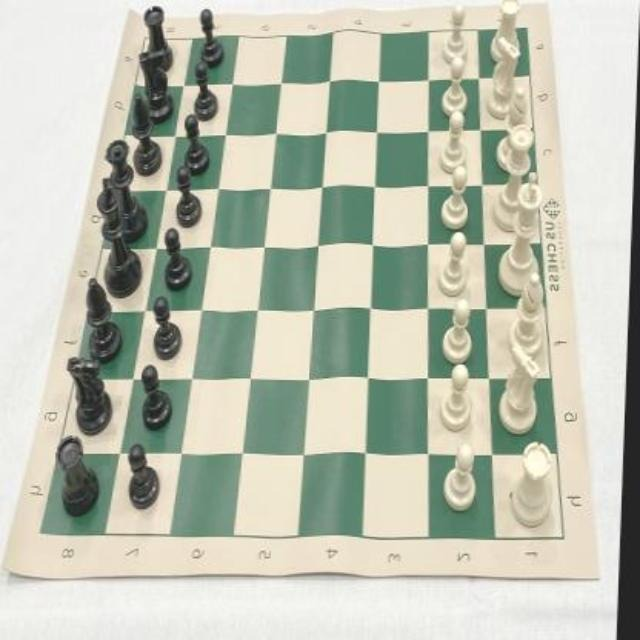black-bishop: (86, 276, 130, 362), (133, 93, 165, 174)
black-king: (94, 177, 146, 295)
black-knight: (67, 354, 117, 437), (137, 43, 175, 123)
black-pawn: (130, 439, 165, 511), (142, 364, 178, 431), (164, 226, 196, 290), (154, 296, 186, 360), (176, 166, 204, 230), (192, 60, 221, 121), (184, 114, 211, 175), (199, 6, 225, 69)
black-queen: (105, 138, 151, 240)
black-rook: (56, 435, 105, 519), (142, 4, 174, 76)
white-bishop: (510, 272, 550, 358), (497, 85, 530, 171)
white-king: (500, 172, 546, 298)
white-knight: (500, 344, 546, 436), (485, 38, 525, 118)
white-pawn: (446, 443, 484, 512), (443, 364, 475, 431), (444, 298, 476, 364), (440, 230, 470, 294), (443, 165, 473, 228), (441, 4, 470, 65), (441, 57, 470, 117), (442, 110, 469, 173)
white-queen: (494, 124, 536, 233)
white-rook: (514, 440, 560, 526), (489, 0, 521, 64)
